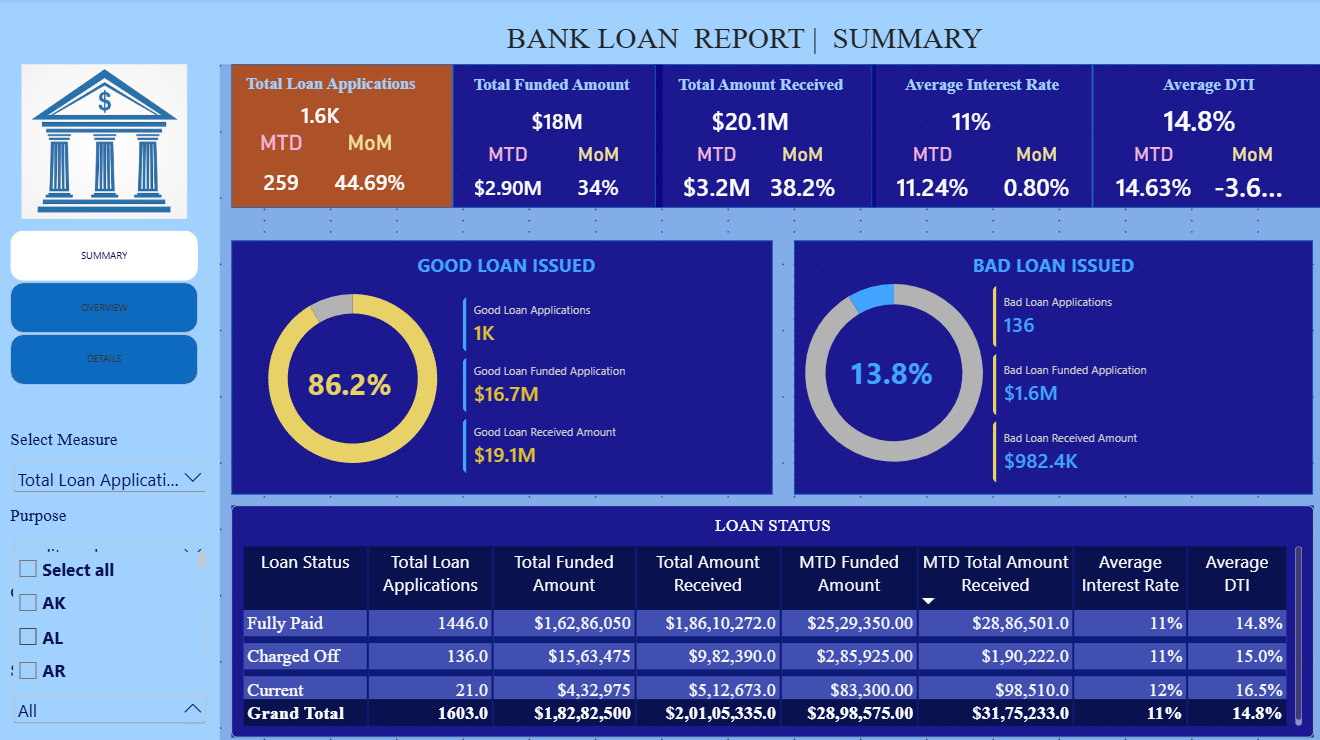

The page's visual inventory and layout, read from the dashboard file:
{"tool":"powerbi","page":{"name":"SUMMARY","canvas":[1920,1080],"ordinal":0},"visuals":[{"type":"shape","box":[0,88,320,992],"z":0},{"type":"shape","box":[336,96,320,208],"z":0,"group":"g1"},{"type":"shape","box":[656,96,304,208],"z":0,"group":"g6"},{"type":"shape","box":[951.6,96,320,208],"z":0,"group":"g3"},{"type":"shape","box":[1264,96,320,208],"z":0,"group":"g4"},{"type":"shape","box":[1584,96,336,208],"z":0,"group":"g5"},{"type":"shape","box":[0,0,1920,96],"z":1000},{"type":"textbox","box":[624,112,352,32],"z":1000,"group":"g6"},{"type":"cardVisual","fields":{"Data":["bank_loan_data.Total Loan Applications"]},"box":[350.5,125.5,228.6,88.6],"z":1000,"group":"g1"},{"type":"cardVisual","fields":{"Data":["bank_loan_data.Total Aount Received"]},"box":[974.5,128,228.6,96],"z":1000,"group":"g3"},{"type":"cardVisual","fields":{"Data":["bank_loan_data.Average Interest Rate"]},"box":[1294.5,128,228.6,96],"z":1000,"group":"g4"},{"type":"cardVisual","fields":{"Data":["bank_loan_data.Average DTI"]},"box":[1616,128,240,96],"z":1000,"group":"g5"},{"type":"textbox","box":[240,32,1680,64],"z":2000},{"type":"textbox","box":[320,110.8,320,29.5],"z":2000,"group":"g1"},{"type":"textbox","box":[944,112,320,32],"z":2000,"group":"g3"},{"type":"textbox","box":[1264,112,320,32],"z":2000,"group":"g4"},{"type":"textbox","box":[1584,112,336,32],"z":2000,"group":"g5"},{"type":"cardVisual","title":"MoM","fields":{"Data":["bank_loan_data.MoM Total Funded Amount"]},"box":[791.6,208,150.9,80],"z":2000,"group":"g6"},{"type":"group","id":"g1","title":"Group 1","box":[320,96,336,208],"z":3000},{"type":"cardVisual","fields":{"Data":["bank_loan_data.Total Funded Amount"]},"box":[720,144,176,64],"z":3000,"group":"g6"},{"type":"cardVisual","title":"MTD","fields":{"Data":["bank_loan_data.MTD Loan Applications"]},"box":[336,192,144,96],"z":3000,"group":"g1"},{"type":"cardVisual","title":"MTD","fields":{"Data":["bank_loan_data.MTD Total Amount Received"]},"box":[960,208,160,80],"z":3000,"group":"g3"},{"type":"cardVisual","title":"MTD","fields":{"Data":["bank_loan_data.MTD Average Interest Rate"]},"box":[1280,208,144,80],"z":3000,"group":"g4"},{"type":"cardVisual","title":"MTD","fields":{"Data":["bank_loan_data.MTD Average DTI"]},"box":[1600,208,144,80],"z":3000,"group":"g5"},{"type":"group","id":"g2","title":"Group 1","box":[624,96,352,208],"z":4000},{"type":"cardVisual","title":"MoM","fields":{"Data":["bank_loan_data.MoM Loan Applications"]},"box":[464,192,144,96],"z":4000,"group":"g1"},{"type":"cardVisual","title":"MTD","fields":{"Data":["bank_loan_data.MTD Funded Amount"]},"box":[656,208,160,80],"z":4000,"group":"g6"},{"type":"cardVisual","title":"MoM","fields":{"Data":["bank_loan_data.Mom Loan Received"]},"box":[1096.4,208,137.1,80],"z":4000,"group":"g3"},{"type":"cardVisual","title":"MoM","fields":{"Data":["bank_loan_data.MoM Avg Int Rate"]},"box":[1424,208,160,80],"z":4000,"group":"g4"},{"type":"cardVisual","title":"MoM","fields":{"Data":["bank_loan_data.MoM Average DTI"]},"box":[1744,208,160,96],"z":4000,"group":"g5"},{"type":"shape","box":[336,352,784,368],"z":5000},{"type":"group","id":"g3","title":"Group 1","box":[944,96,320,208],"z":6000},{"type":"group","id":"g4","title":"Group 1","box":[1264,96,320,208],"z":7000},{"type":"group","id":"g5","title":"Group 1","box":[1584,96,336,208],"z":8000},{"type":"shape","box":[1152,352,752,368],"z":9000},{"type":"donutChart","fields":{"Category":["bank_loan_data.Good vs Bad Loan"],"Y":["bank_loan_data.Total Loan Applications"]},"box":[320,384,384,336],"z":10000},{"type":"textbox","box":[448,528,128,64],"z":11000},{"type":"group","id":"g6","title":"Group 2","box":[624,96,352,208],"z":11001,"group":"g2"},{"type":"textbox","box":[352,368,768,48],"z":12000},{"type":"cardVisual","fields":{"Data":["bank_loan_data.Good Loan Applications","bank_loan_data.Good Loan Funded Application","bank_loan_data.Good Loan Received Amount"]},"box":[672,432,432,256],"z":13000},{"type":"donutChart","fields":{"Category":["bank_loan_data.Good vs Bad Loan"],"Y":["bank_loan_data.Total Loan Applications"]},"box":[1104,368,384,352],"z":14000},{"type":"textbox","box":[1152,368,752,48],"z":15000},{"type":"textbox","box":[1232,512,144,64],"z":16000},{"type":"cardVisual","fields":{"Data":["bank_loan_data.Bad Loan Applications","bank_loan_data.Bad Loan Funded Application","bank_loan_data.Bad Loan Received Amount"]},"box":[1440,416,400,288],"z":17000},{"type":"shape","box":[336,736,1568,336],"z":18000},{"type":"tableEx","title":"LOAN STATUS","fields":{"Values":["bank_loan_data.loan_status","bank_loan_data.Total Loan Applications","bank_loan_data.Total Funded Amount","bank_loan_data.Total Aount Received","bank_loan_data.MTD Funded Amount","bank_loan_data.MTD Total Amount Received","bank_loan_data.Average Interest Rate","bank_loan_data.Average DTI"]},"box":[336,736,1568,336],"z":19000},{"type":"slicer","title":"Purpose","fields":{"Values":["bank_loan_data.purpose"]},"box":[16,736,288,96],"z":20000},{"type":"slicer","title":"Grade","fields":{"Values":["bank_loan_data.grade"]},"box":[16,848,288,96],"z":21000},{"type":"slicer","title":"State","fields":{"Values":["bank_loan_data.address_state"]},"box":[16,960,288,112],"z":22000},{"type":"image","box":[32,96,240,224],"z":23000},{"type":"pageNavigator","box":[16,336,272,224],"z":24000},{"type":"slicer","title":"Select Measure","fields":{"Values":["Select Measure.Select Measure"]},"box":[16,624,288,96],"z":25000}]}

Visuals, with their boxes in screenshot pixels (x1, y1, x2, y2), scaled from the page's 1920x1080 canvas onto the 1320x740 screenshot:
shape: x1=0, y1=60, x2=220, y2=739
shape: x1=231, y1=66, x2=451, y2=208
shape: x1=451, y1=66, x2=660, y2=208
shape: x1=654, y1=66, x2=874, y2=208
shape: x1=869, y1=66, x2=1089, y2=208
shape: x1=1089, y1=66, x2=1319, y2=208
shape: x1=0, y1=0, x2=1319, y2=66
textbox: x1=429, y1=77, x2=671, y2=99
cardVisual - bank_loan_data.Total Loan Applications: x1=241, y1=86, x2=398, y2=147
cardVisual - bank_loan_data.Total Aount Received: x1=670, y1=88, x2=827, y2=153
cardVisual - bank_loan_data.Average Interest Rate: x1=890, y1=88, x2=1047, y2=153
cardVisual - bank_loan_data.Average DTI: x1=1111, y1=88, x2=1276, y2=153
textbox: x1=165, y1=22, x2=1319, y2=66
textbox: x1=220, y1=76, x2=440, y2=96
textbox: x1=649, y1=77, x2=869, y2=99
textbox: x1=869, y1=77, x2=1089, y2=99
textbox: x1=1089, y1=77, x2=1319, y2=99
"MoM" cardVisual: x1=544, y1=143, x2=648, y2=197
"Group 1" group: x1=220, y1=66, x2=451, y2=208
cardVisual - bank_loan_data.Total Funded Amount: x1=495, y1=99, x2=616, y2=143
"MTD" cardVisual: x1=231, y1=132, x2=330, y2=197
"MTD" cardVisual: x1=660, y1=143, x2=770, y2=197
"MTD" cardVisual: x1=880, y1=143, x2=979, y2=197
"MTD" cardVisual: x1=1100, y1=143, x2=1199, y2=197
"Group 1" group: x1=429, y1=66, x2=671, y2=208
"MoM" cardVisual: x1=319, y1=132, x2=418, y2=197
"MTD" cardVisual: x1=451, y1=143, x2=561, y2=197
"MoM" cardVisual: x1=754, y1=143, x2=848, y2=197
"MoM" cardVisual: x1=979, y1=143, x2=1089, y2=197
"MoM" cardVisual: x1=1199, y1=143, x2=1309, y2=208
shape: x1=231, y1=241, x2=770, y2=493
"Group 1" group: x1=649, y1=66, x2=869, y2=208
"Group 1" group: x1=869, y1=66, x2=1089, y2=208
"Group 1" group: x1=1089, y1=66, x2=1319, y2=208
shape: x1=792, y1=241, x2=1309, y2=493
donutChart - bank_loan_data.Good vs Bad Loan x bank_loan_data.Total Loan Applications: x1=220, y1=263, x2=484, y2=493
textbox: x1=308, y1=362, x2=396, y2=406
"Group 2" group: x1=429, y1=66, x2=671, y2=208
textbox: x1=242, y1=252, x2=770, y2=285
cardVisual - bank_loan_data.Good Loan Applications x bank_loan_data.Good Loan Funded Application: x1=462, y1=296, x2=759, y2=471
donutChart - bank_loan_data.Good vs Bad Loan x bank_loan_data.Total Loan Applications: x1=759, y1=252, x2=1023, y2=493
textbox: x1=792, y1=252, x2=1309, y2=285
textbox: x1=847, y1=351, x2=946, y2=395
cardVisual - bank_loan_data.Bad Loan Applications x bank_loan_data.Bad Loan Funded Application: x1=990, y1=285, x2=1265, y2=482
shape: x1=231, y1=504, x2=1309, y2=735
"LOAN STATUS" tableEx: x1=231, y1=504, x2=1309, y2=735
"Purpose" slicer: x1=11, y1=504, x2=209, y2=570
"Grade" slicer: x1=11, y1=581, x2=209, y2=647
"State" slicer: x1=11, y1=658, x2=209, y2=735
image: x1=22, y1=66, x2=187, y2=219
pageNavigator: x1=11, y1=230, x2=198, y2=384
"Select Measure" slicer: x1=11, y1=428, x2=209, y2=493
